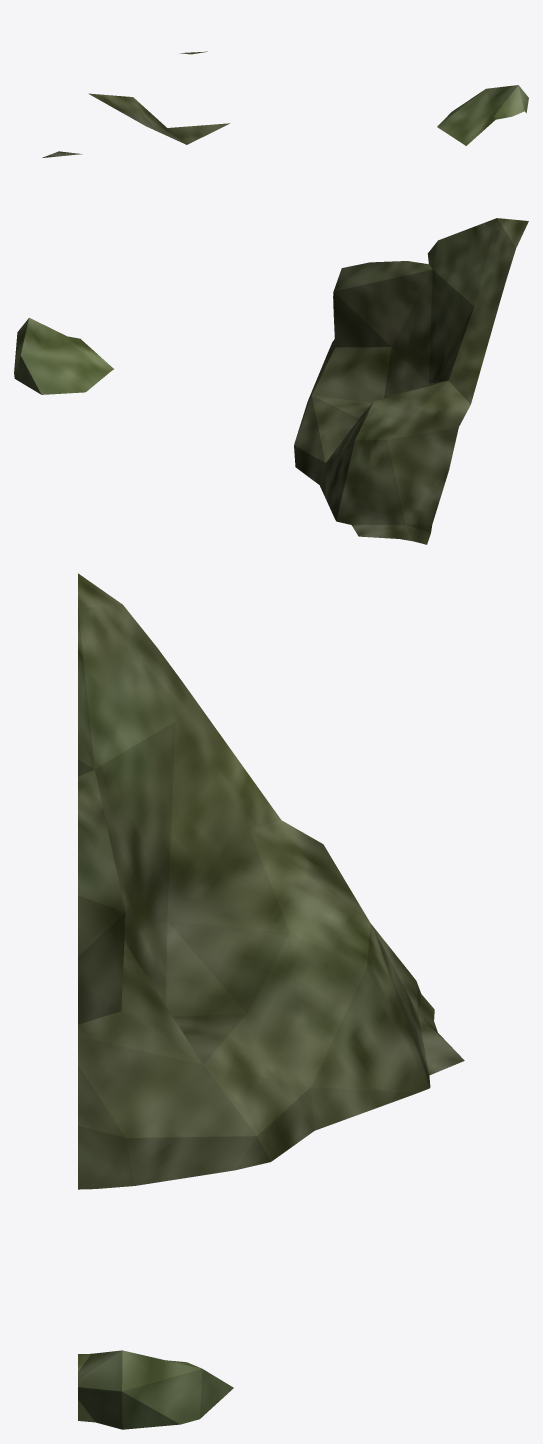
3 renders of one model, top to bottom at view 1: azimuth 30°, elevation 25°; view 2: azimuth 150°, elevation 25°; view 3: azimuth 270°, elevation 25°, orthographic. The views are drawn at different scales.
Size of the model in its own units: 1.29 by 0.6162 by 0.4951.
1 material, 1 textured.
